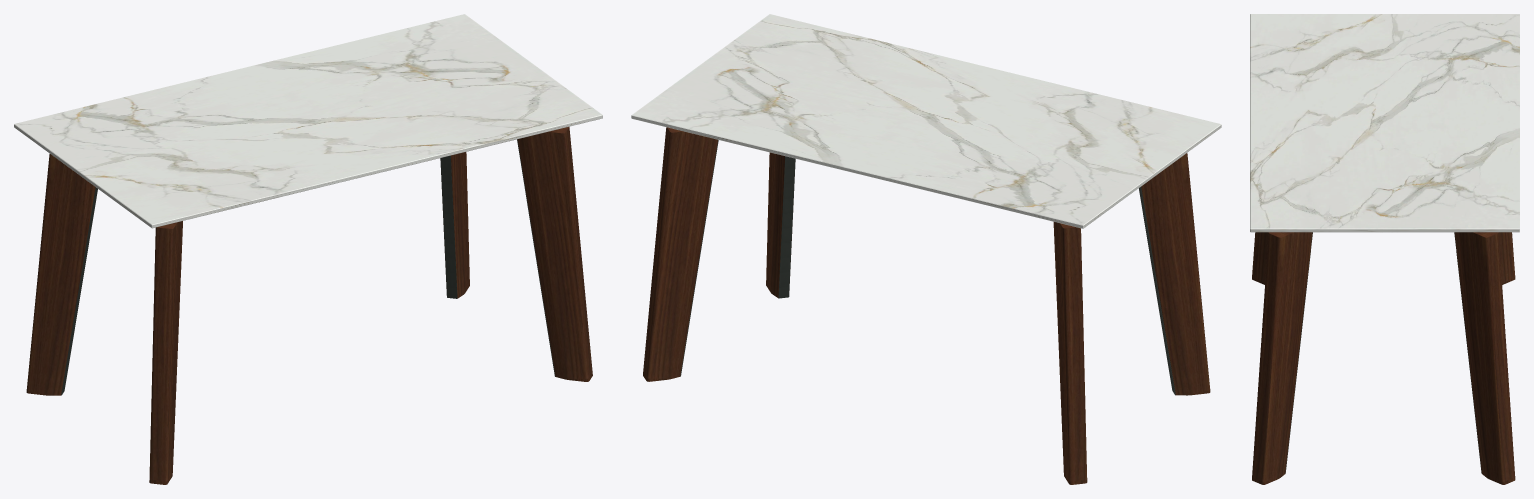
File: BGID02078.glb
3 renders of one model, left to right at view 1: azimuth 30°, elevation 25°; view 2: azimuth 150°, elevation 25°; view 3: azimuth 270°, elevation 25°, orthographic. The views are drawn at different scales.
Visible parts, largest first — view 1: BP_BGID02078; view 2: BP_BGID02078; view 3: BP_BGID02078.
Boxes of the visible parts, x1,y1,x2,y2 form: BP_BGID02078: [14, 14, 602, 484]; BP_BGID02078: [631, 14, 1221, 484]; BP_BGID02078: [1250, 14, 1519, 484].
Bounding box in the file's own units: 1.49 × 0.8337 × 0.79.
Materials: 4 (4 with a texture image).
